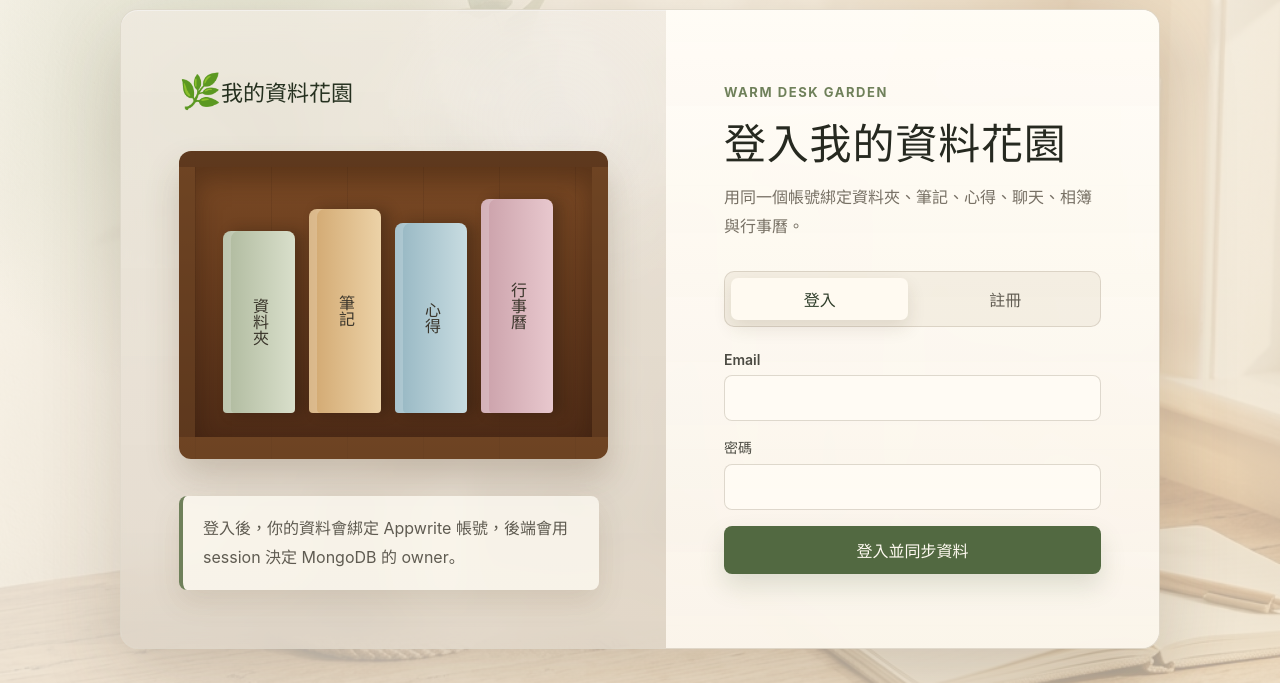
Test: Warm Desk Garden app shell › waits for profile sync before opening the workspace after registration
Click the button "註冊": (1005, 299) [916, 278, 1094, 320]
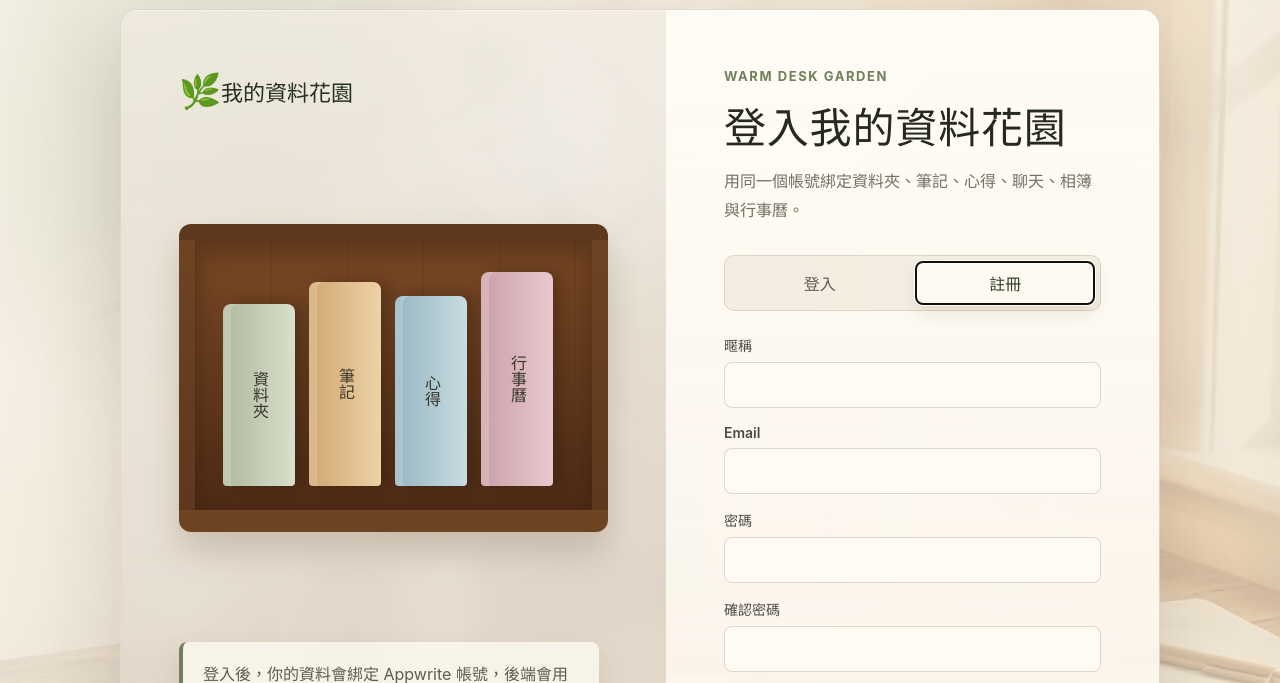
In the field labelled "暱稱": (912, 385) [724, 362, 1101, 408], type "可搜尋朋友"
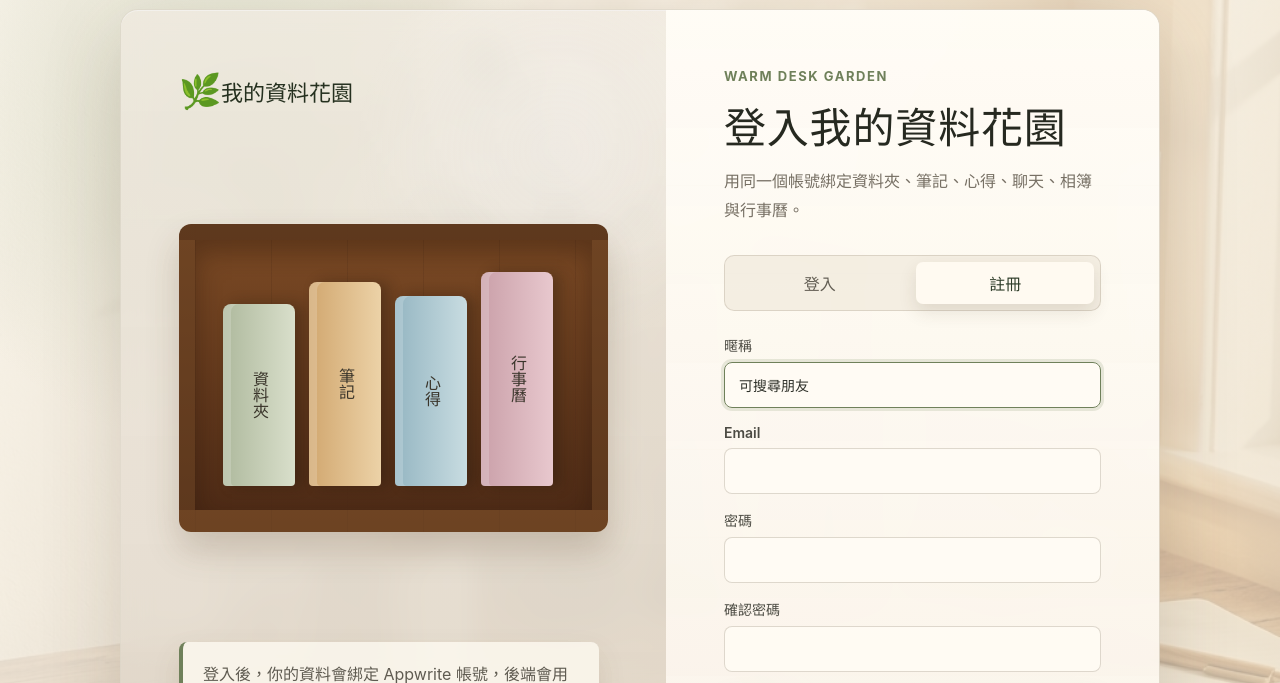
In the field labelled "Email": (912, 471) [724, 448, 1101, 494], type "searchable-friend@example.com"
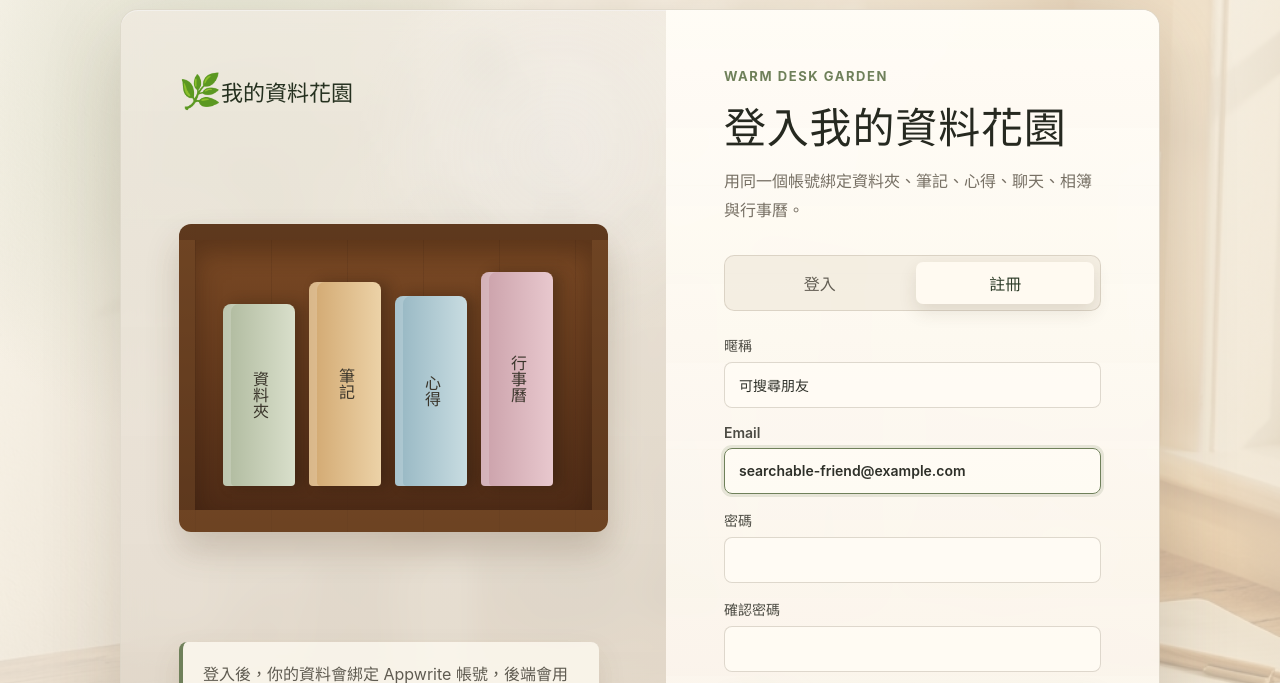
In the password field labelled "密碼": (912, 560) [724, 537, 1101, 583], type "password123"
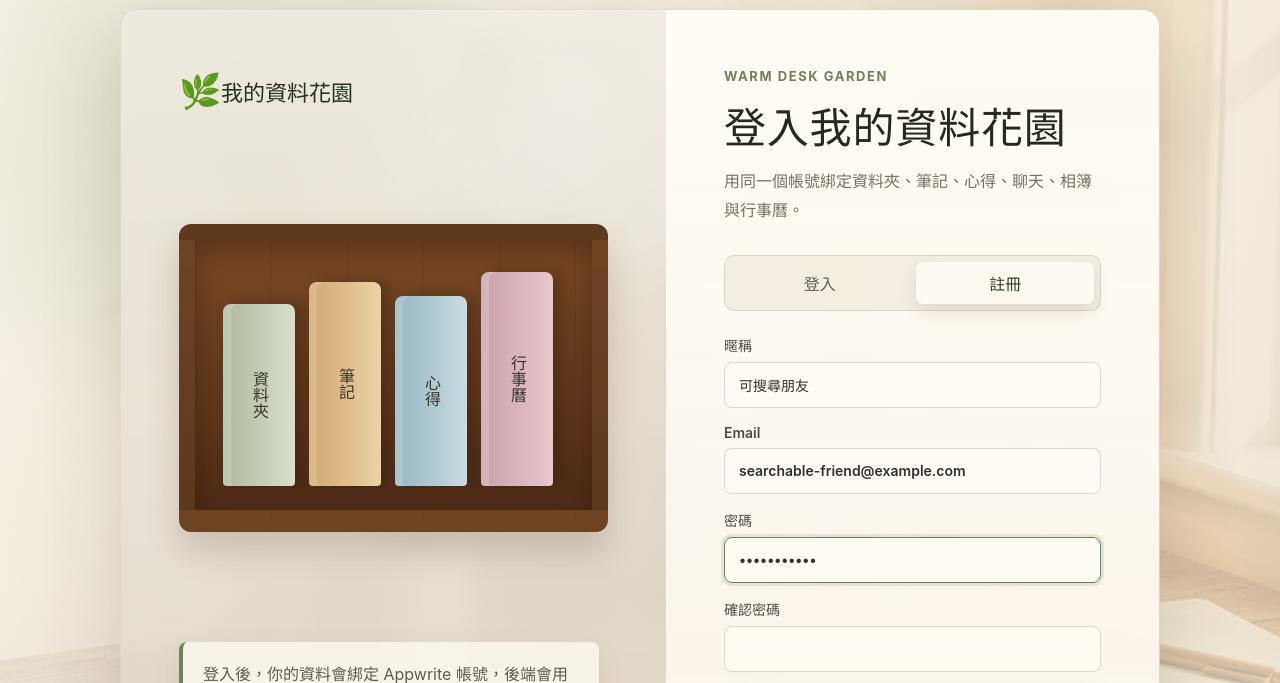
In the password field labelled "確認密碼": (912, 649) [724, 626, 1101, 672], type "password123"
(page scrolled)
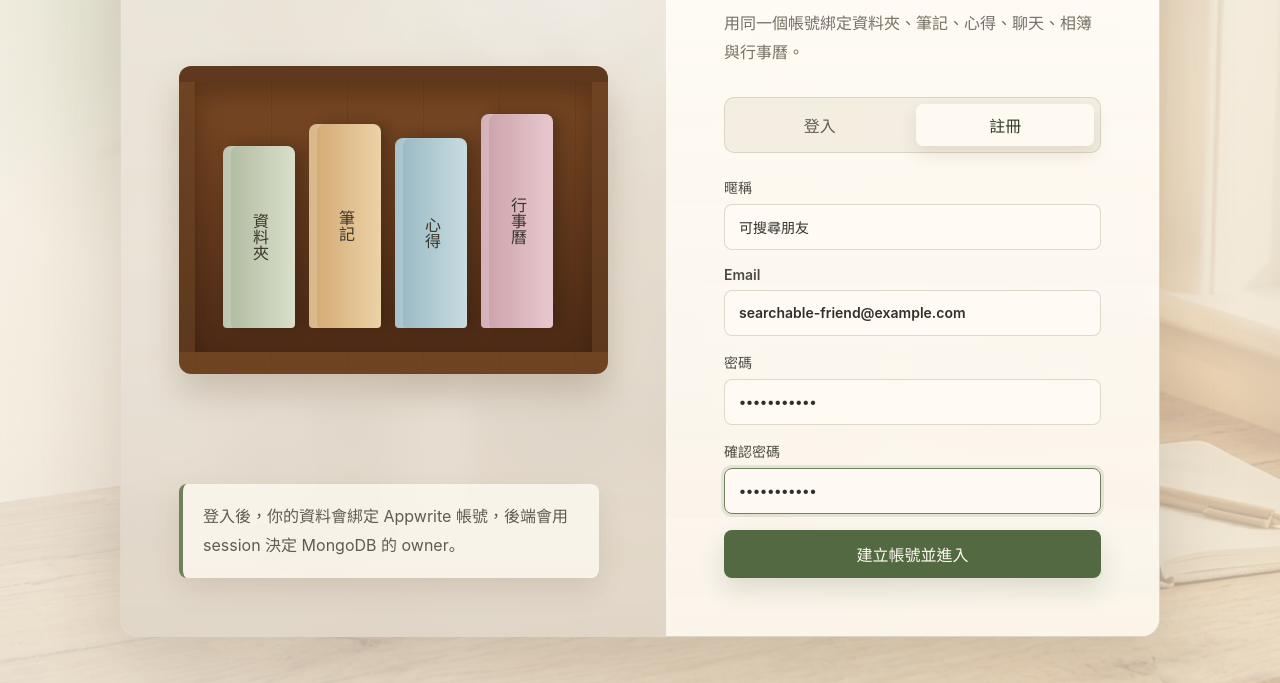
Click the button "建立帳號並進入": (912, 554) [724, 530, 1101, 578]
(page scrolled)
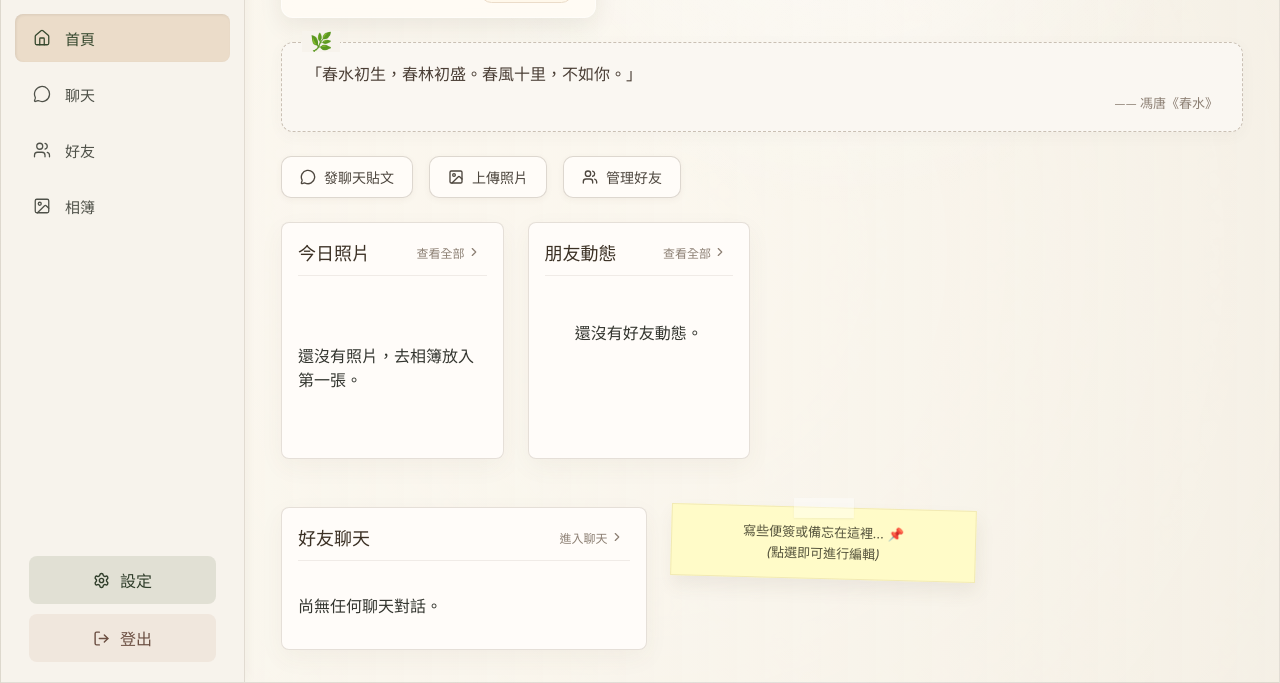
Expected: the button "聊天" is shown, [15, 70, 230, 118]
